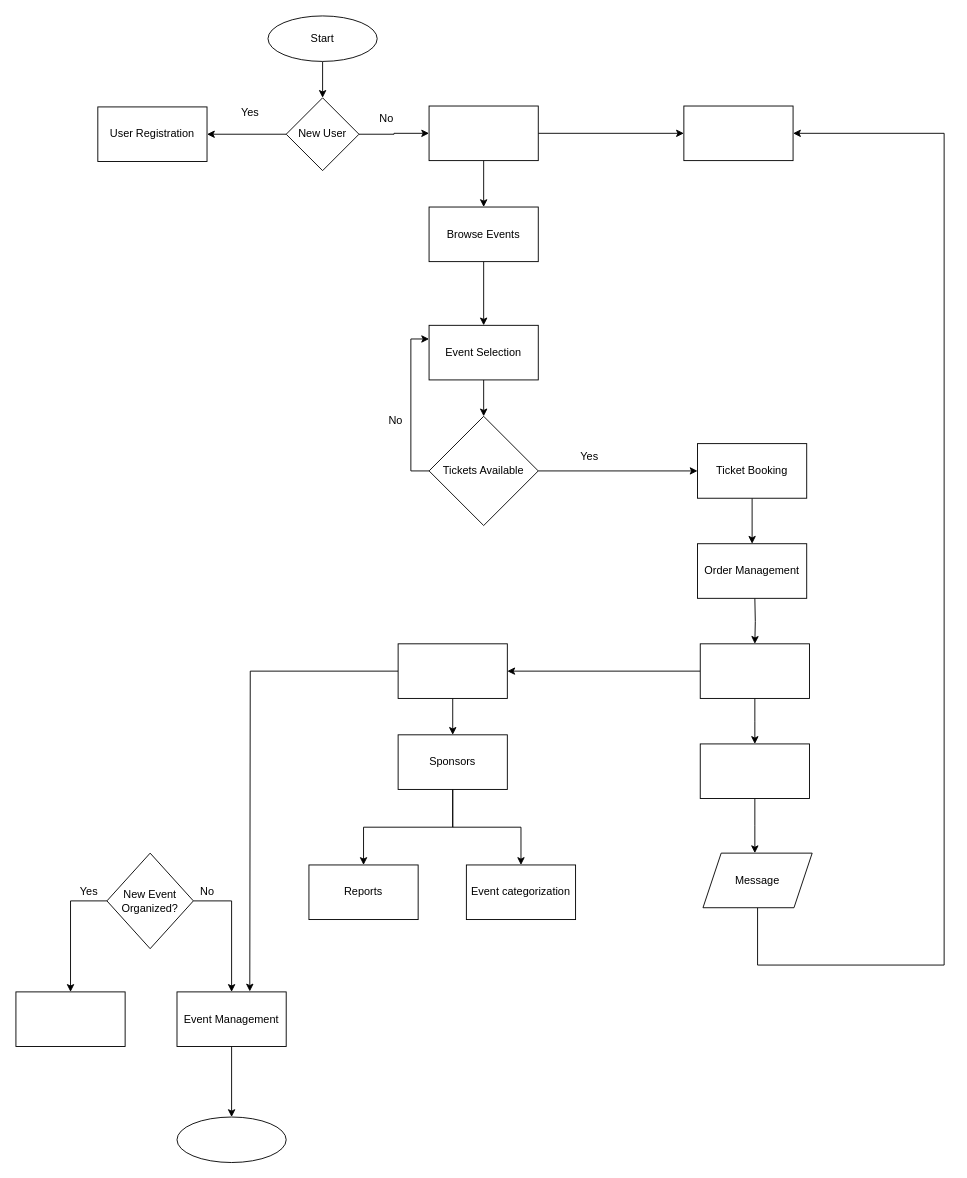
Some shapes in this 967 by 1178 pixel diagram are drawn without their labels. Each missing label, with the centre of its shape:
"End" goes at pixel 231 1139.
"Event Attendance" goes at pixel 754 670.
"Event Creation" goes at pixel 70 1018.
"Notification" goes at pixel 738 133.
"Reviews" goes at pixel 754 771.
"User Authentication" goes at pixel 483 133.
"Venues" goes at pixel 452 670.
